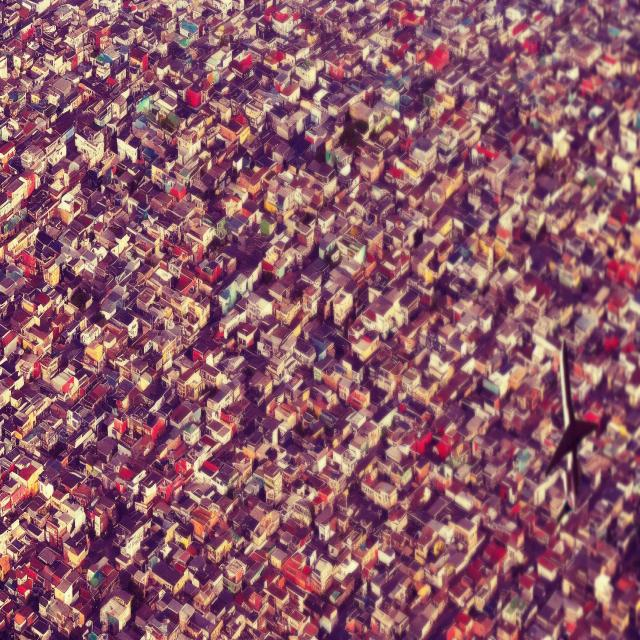airplane: (544, 337, 597, 509)
